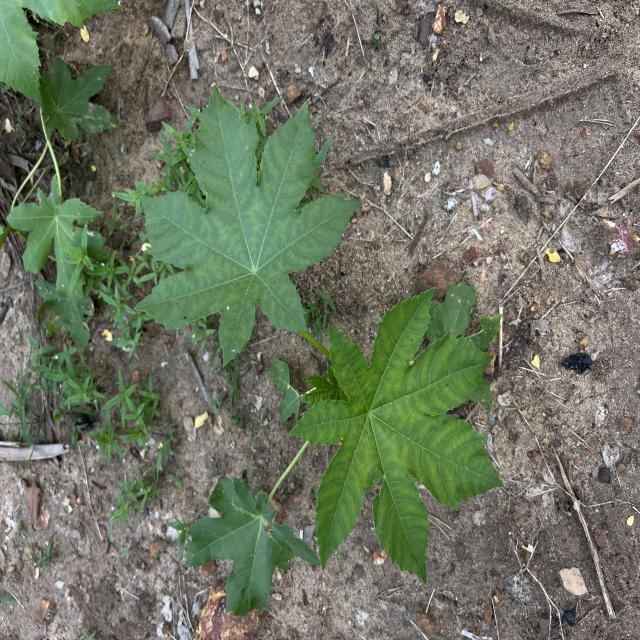Ricinus communis linn: (132, 80, 366, 371), (285, 280, 505, 589)
